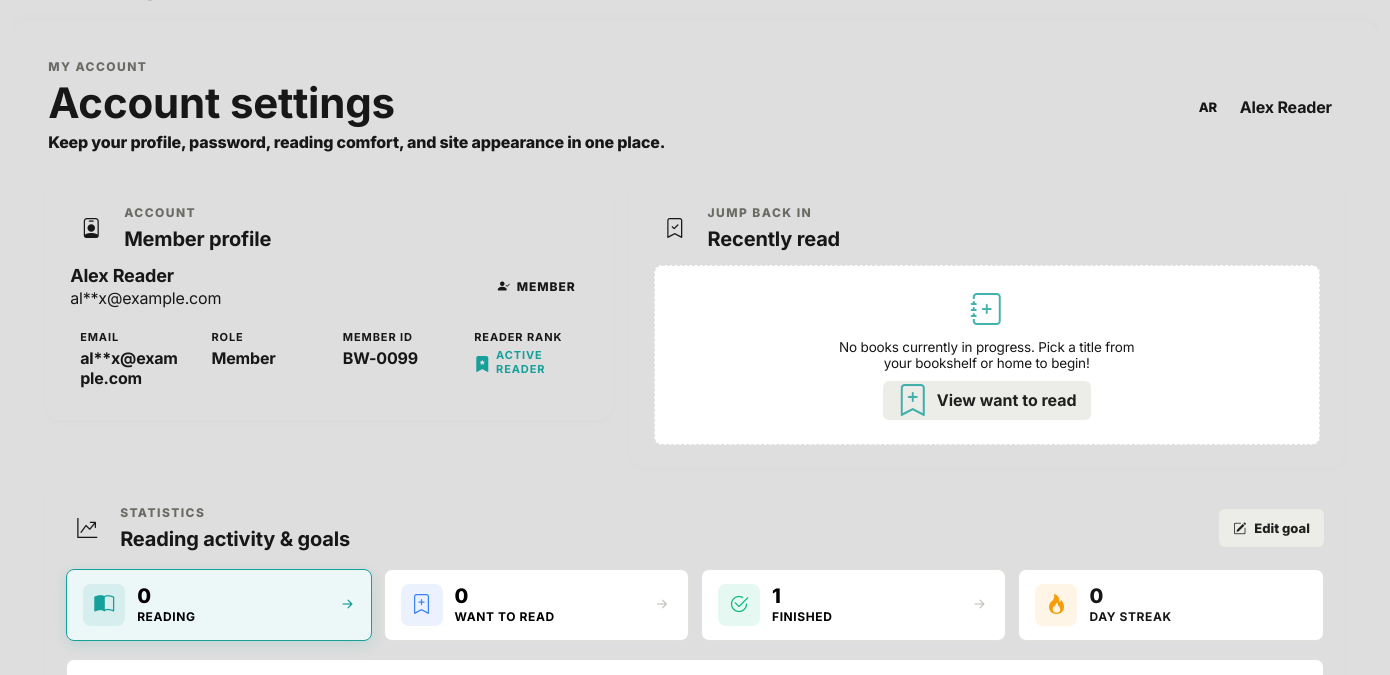
Test case: ProfilePage › allows editing the reading goal
Click the button "Edit goal" at (1272, 528), box [1219, 509, 1324, 547]
(page scrolled)
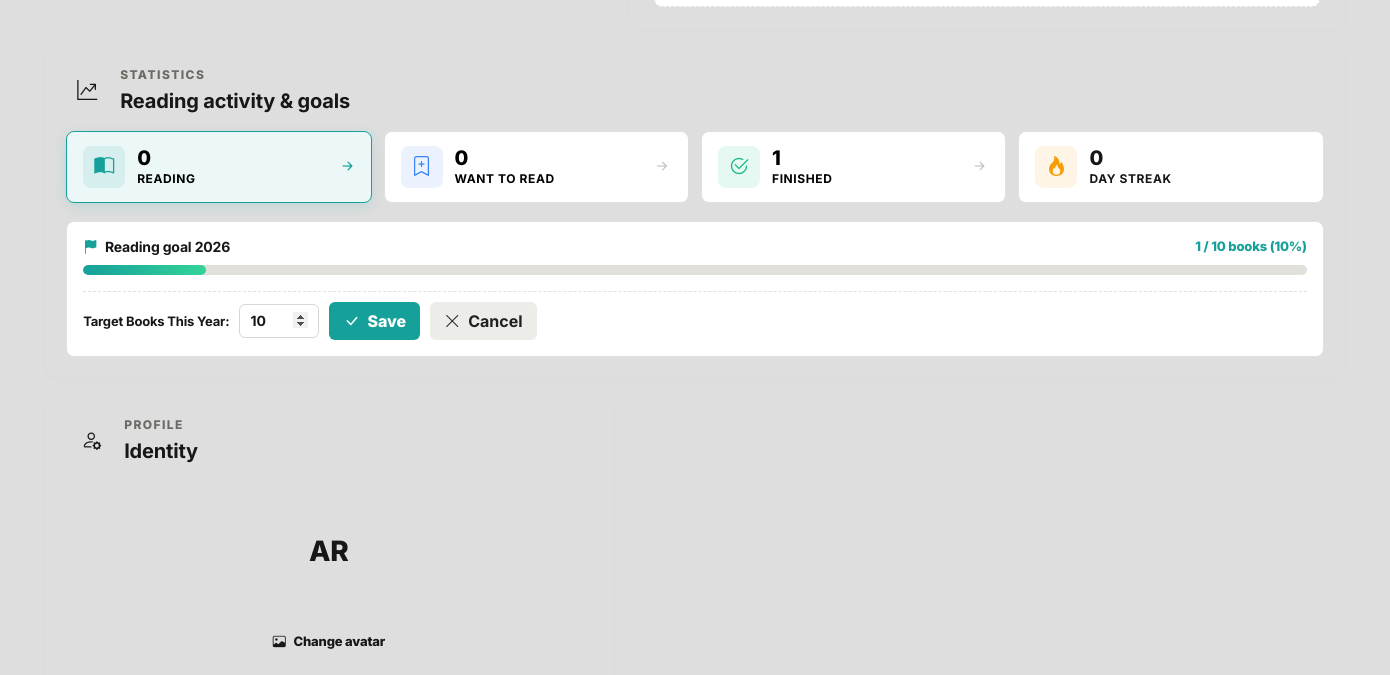
Replace the text in the number field labelled "Target books this year:" with "25" at (279, 321), box [239, 304, 319, 338]
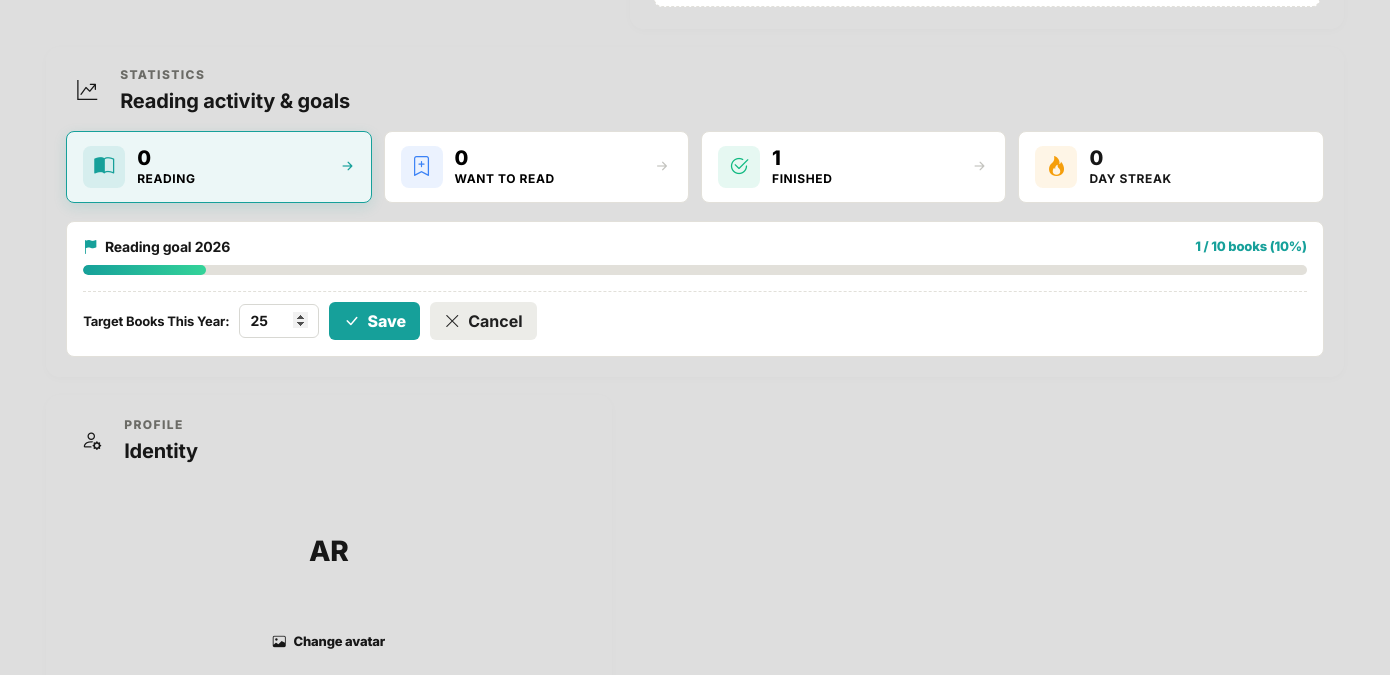
Click the button "Save" at (375, 321), box [329, 302, 420, 340]
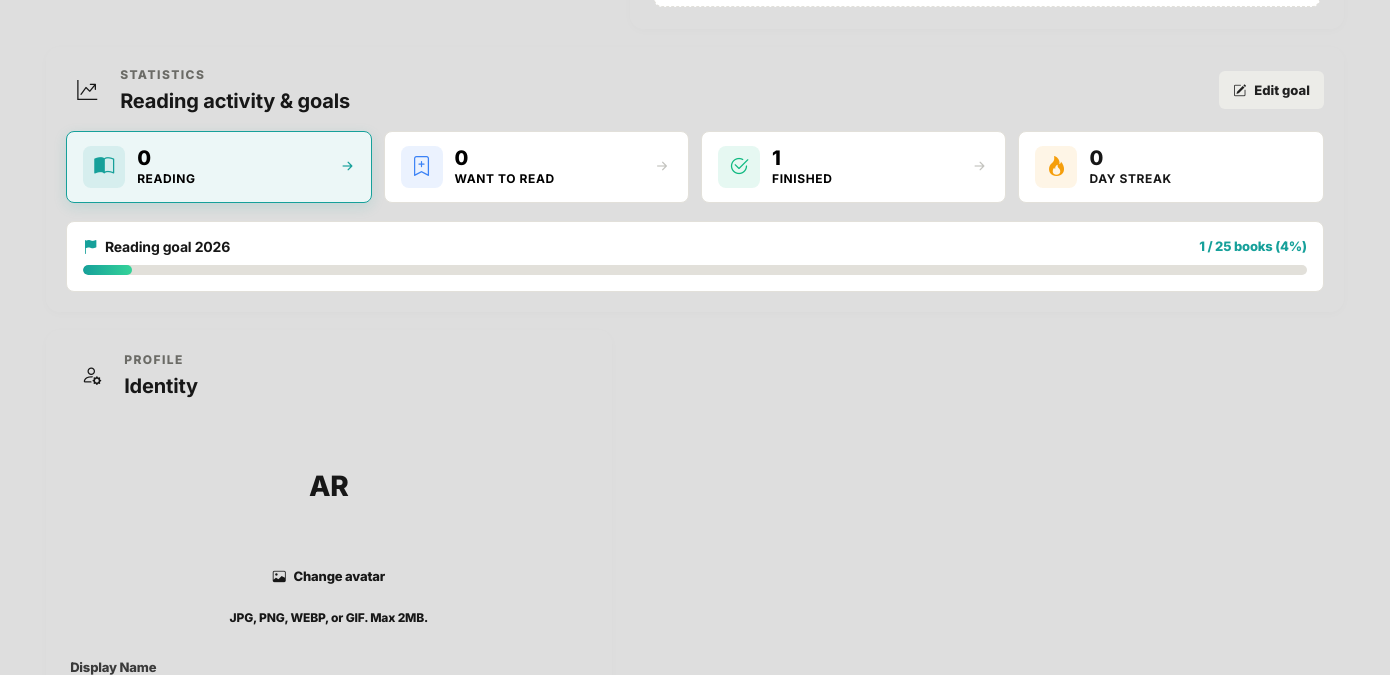
Result: the text "1 / 25 books (4%)" is shown at [1199, 238, 1307, 254]
